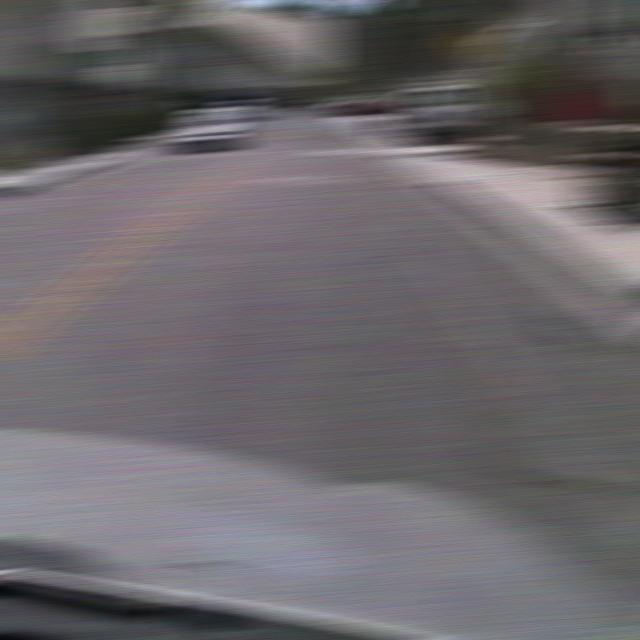pedestrianCrossing: (445, 23, 494, 65)
